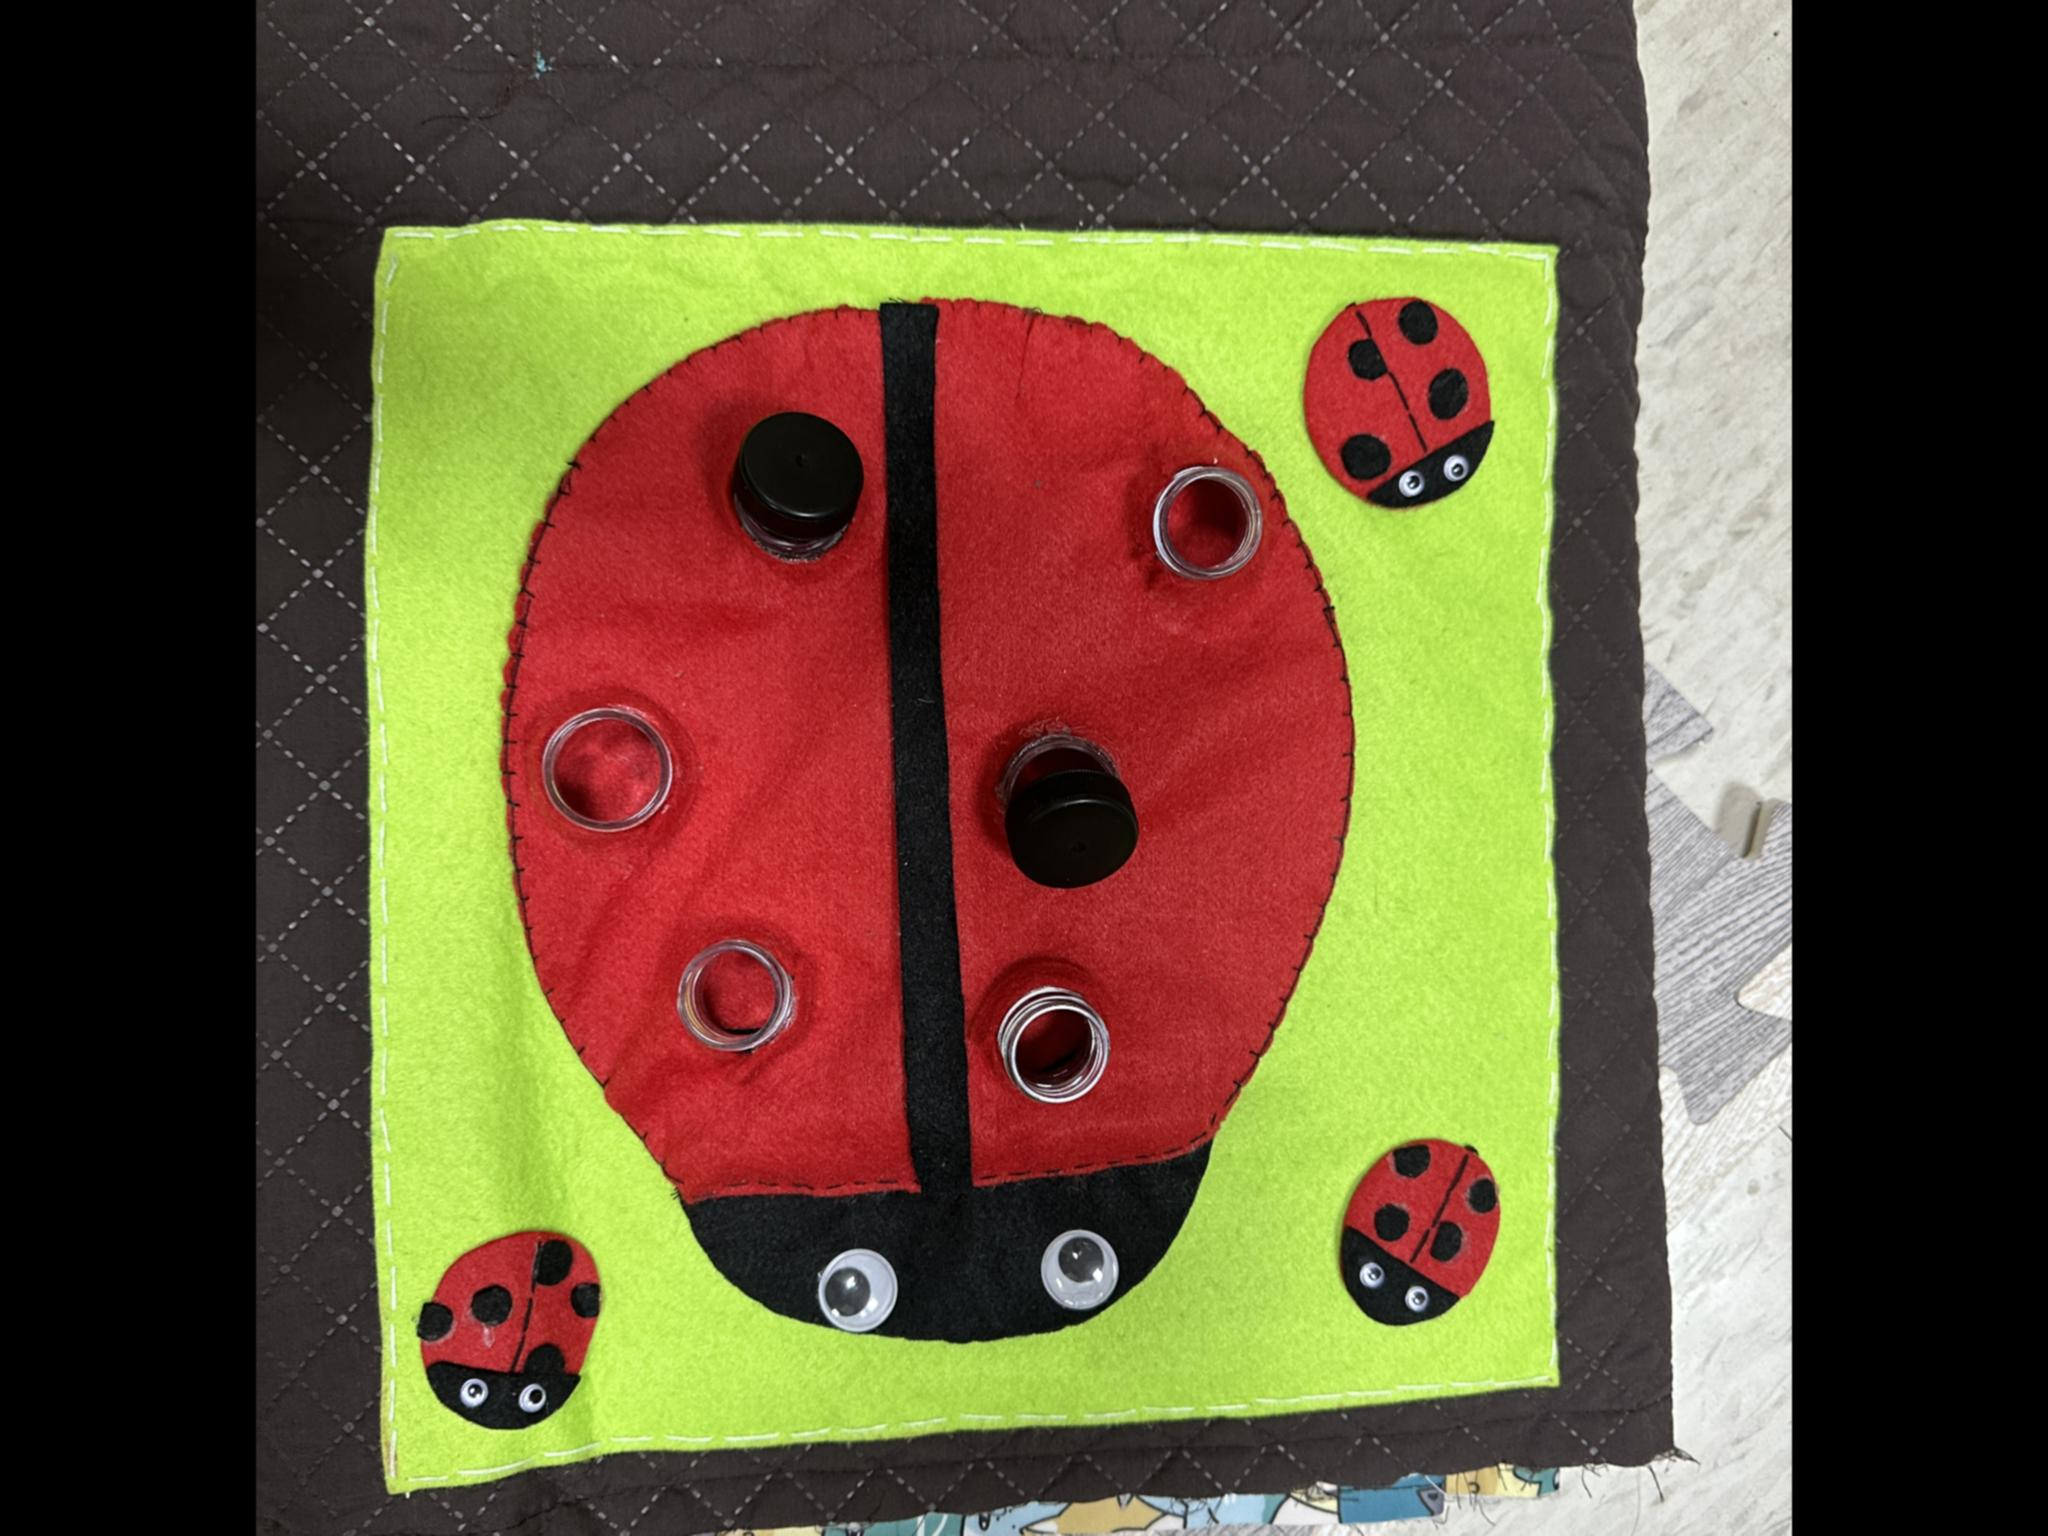cap_ng: (971, 687, 1164, 891), (701, 382, 887, 586)
